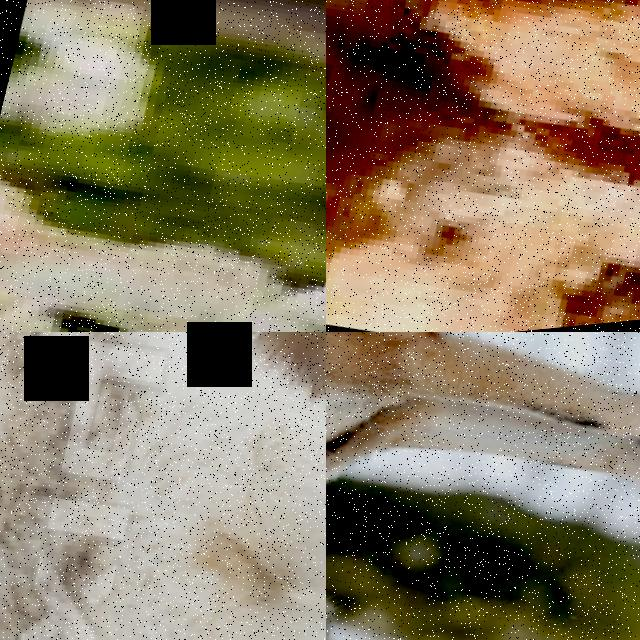dog: (326, 0, 640, 332), (326, 0, 640, 280), (0, 80, 326, 332)
wolf: (0, 332, 326, 640), (326, 332, 640, 640), (326, 512, 640, 640)
